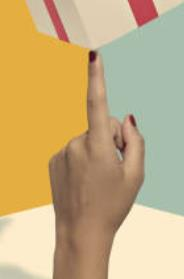up: (48, 49, 149, 231)
